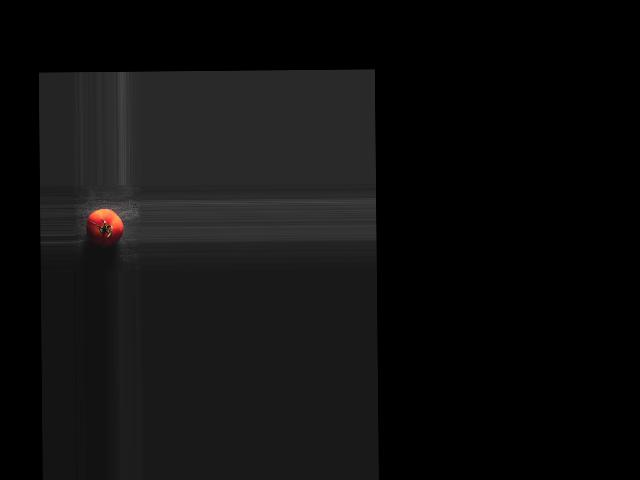tomato: (86, 208, 123, 246)
